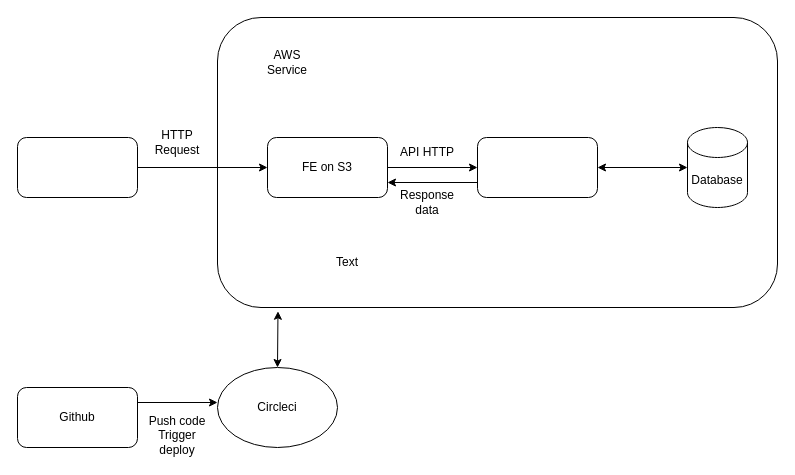
Some shapes in this 795 by 475 pixel diagram are drawn without their labels. The centre of each missing label's shape, as x and y in pixels:
BE on EB: the point at 537,167
Users: the point at 77,167
